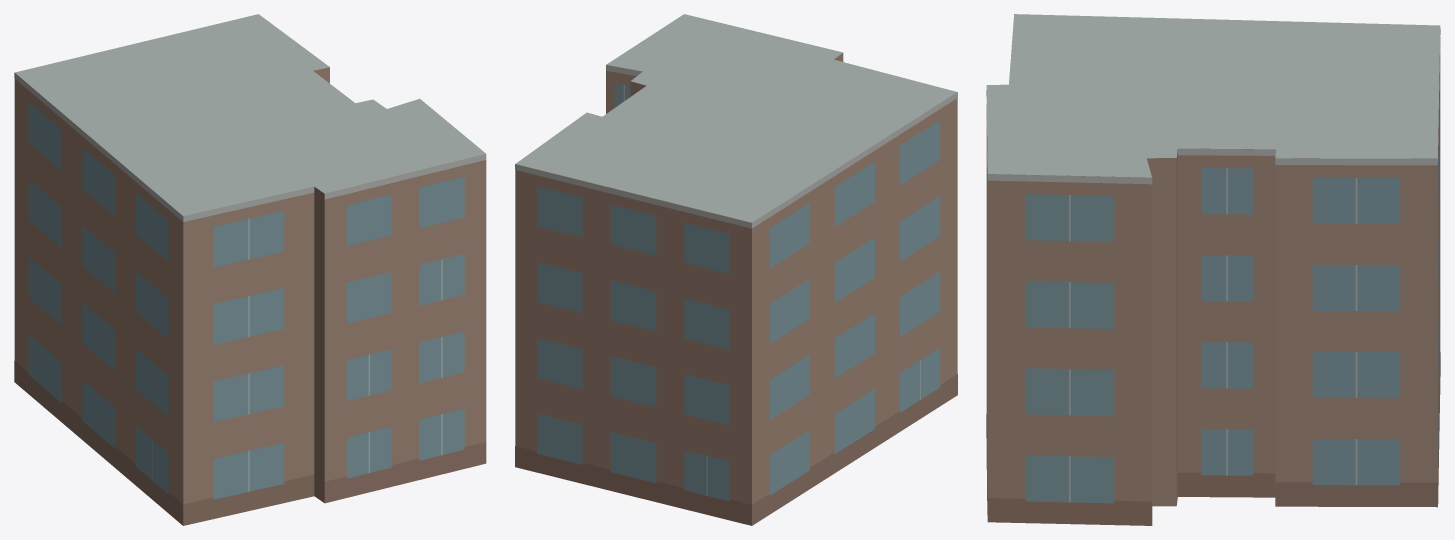
File: survey-upis-32912735.glb
The picture shows the model from 3 angles, left to right: view 1: azimuth 30°, elevation 25°; view 2: azimuth 150°, elevation 25°; view 3: azimuth 270°, elevation 25°; orthographic projection. The views are drawn at different scales.
Parts seen in each view (by area): view 1: survey-upis-32912735.tmp; view 2: survey-upis-32912735.tmp; view 3: survey-upis-32912735.tmp.
Boxes of the visible parts, x1,y1,x2,y2 form: survey-upis-32912735.tmp: [14, 14, 486, 525]; survey-upis-32912735.tmp: [515, 14, 957, 525]; survey-upis-32912735.tmp: [986, 14, 1440, 525].
Size of the model in its own units: 12.91 by 12.8 by 15.13.
